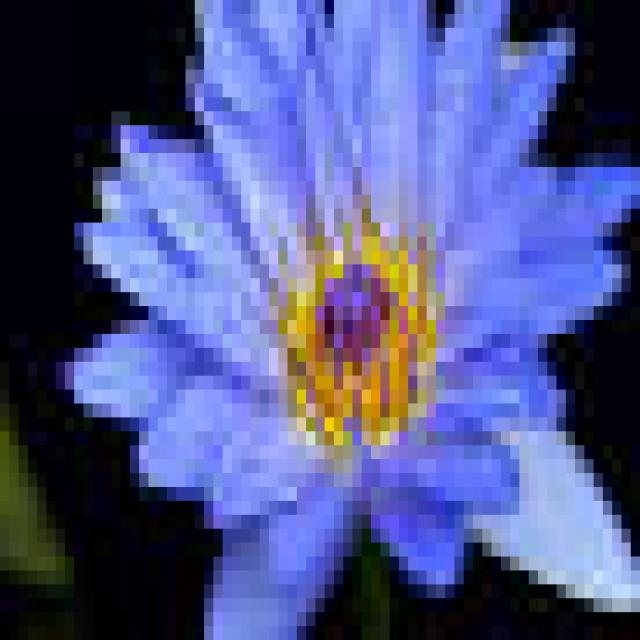lotus: (90, 0, 635, 630)
